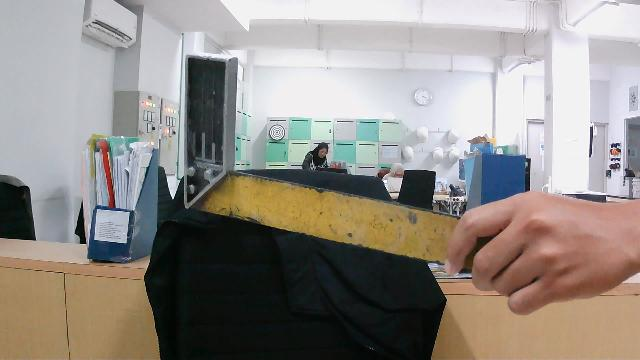penggaris_siku: (178, 49, 551, 281)
